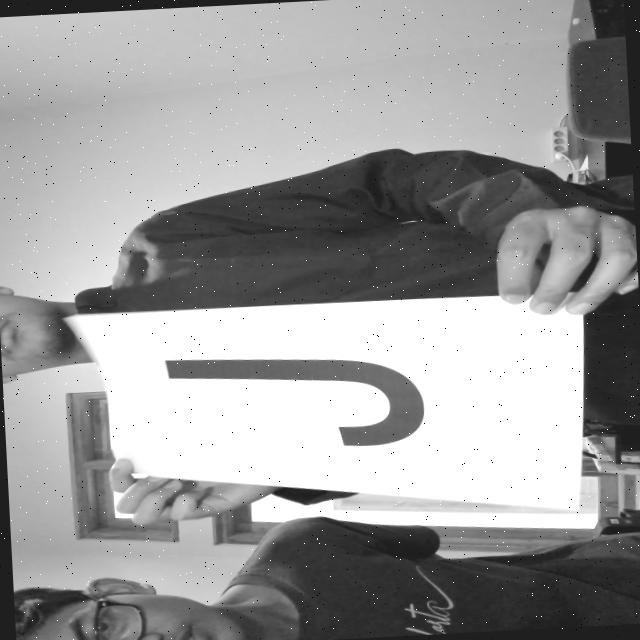j: (149, 335, 438, 468)
